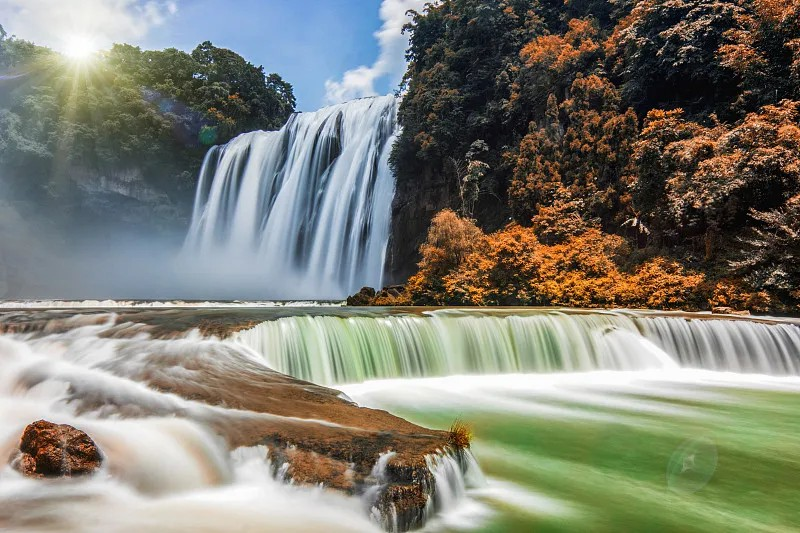Huangguoshu: (179, 92, 398, 301)
